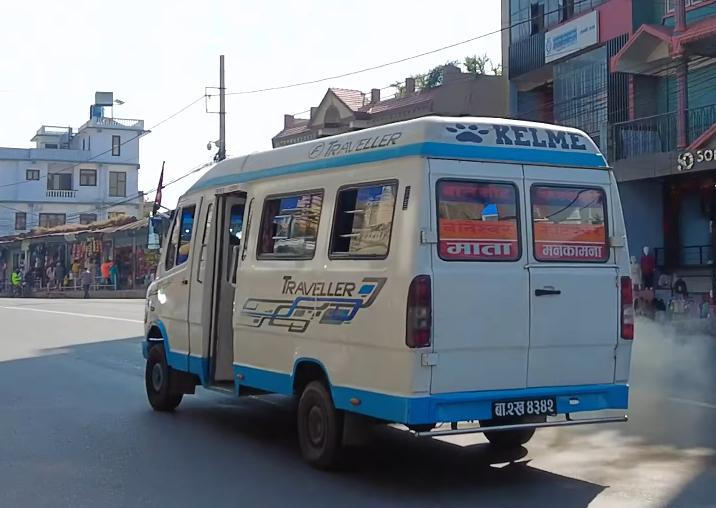micro_bus: (135, 112, 642, 472)
